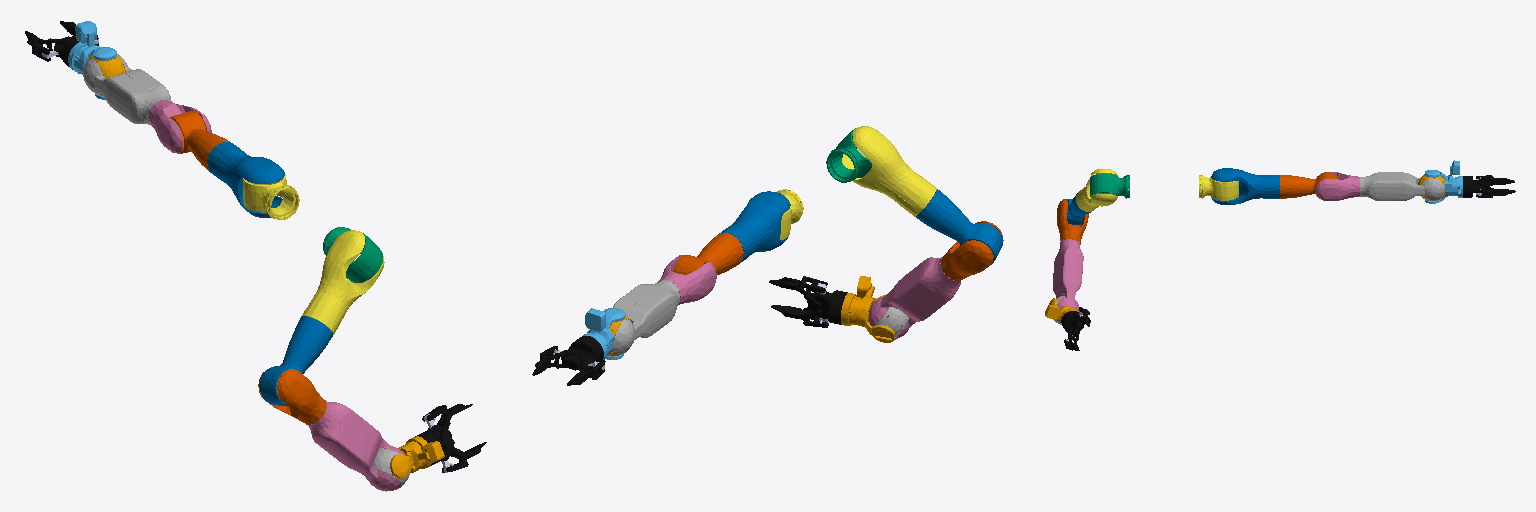
--- Facts derived from the render (not from the file) ---
The picture shows the robot from 3 angles, left to right: view 1: azimuth 30°, elevation 25°; view 2: azimuth 150°, elevation 25°; view 3: azimuth 270°, elevation 25°; orthographic projection.
Robot: galbot_one_charlie — 53 links, 52 joints (13 revolute, 39 fixed); root link base_link; default pose: every joint at zero.
Visible links, largest first — view 1: right_arm_link5, right_arm_link2, left_arm_link5, left_arm_link2, right_arm_link3, right_arm_link4, left_arm_link1, left_arm_link4, left_arm_link3, right_arm_link7, left_arm_link7, right_arm_link1; view 2: right_arm_link2, right_arm_link5, left_arm_link5, left_arm_link2, right_arm_link3, left_arm_link3, right_arm_link4, right_arm_link7, left_arm_link4, right_arm_link1, left_arm_link7, robotiq_arg2f_base_link (+2 smaller); view 3: left_arm_link5, right_arm_link5, left_arm_link2, left_arm_link4, left_arm_link3, right_arm_link1, left_arm_link1, right_arm_link2, right_arm_link4, left_arm_link7.
Link boxes in pixels (x1,y1,x2,y2): right_arm_link5: (306, 400, 405, 491); right_arm_link2: (301, 230, 384, 334); left_arm_link5: (83, 54, 171, 125); left_arm_link2: (207, 142, 284, 217); right_arm_link3: (260, 316, 332, 405); right_arm_link4: (258, 369, 326, 424); left_arm_link1: (243, 174, 299, 219); left_arm_link4: (148, 100, 211, 153); left_arm_link3: (170, 111, 230, 171); right_arm_link7: (366, 436, 444, 479); left_arm_link7: (68, 21, 116, 99); right_arm_link1: (323, 227, 382, 282); right_arm_link2: (842, 126, 936, 216); right_arm_link5: (868, 257, 960, 339); left_arm_link5: (613, 280, 679, 355); left_arm_link2: (719, 191, 790, 263); right_arm_link3: (916, 189, 1002, 262); left_arm_link3: (673, 233, 743, 274); right_arm_link4: (941, 221, 1003, 280); right_arm_link7: (841, 276, 894, 342); left_arm_link4: (658, 255, 716, 305); right_arm_link1: (826, 128, 871, 182); left_arm_link7: (583, 308, 625, 359); robotiq_arg2f_base_link: (561, 336, 603, 370); left_arm_link5: (1360, 172, 1444, 200); right_arm_link5: (1053, 239, 1083, 311); left_arm_link2: (1211, 168, 1279, 204); left_arm_link4: (1315, 172, 1359, 200); left_arm_link3: (1280, 172, 1338, 198); right_arm_link1: (1090, 174, 1129, 198); left_arm_link1: (1199, 175, 1238, 200); right_arm_link2: (1076, 169, 1117, 211); right_arm_link4: (1057, 199, 1088, 243); left_arm_link7: (1425, 160, 1462, 203).
Bounding box of the posed robot: 0.5846 × 1.61 × 0.6143 m (x, y, z).
32 mesh visuals loaded from 19 distinct referenced files (12 OBJ); not drawn: 7 (reference not matched to a file when rendering).

robot.urdf — galbot_one_charlie:
<?xml version='1.0' encoding='UTF-8'?>
<robot name="galbot_one_charlie">
    <link name="base_link">
        <inertial>
            <origin xyz="0.0 0.0 0.0" rpy="0.0 -0.0 0.0"/>
            <mass value="1.0"/>
            <inertia ixx="1.0" ixy="0.0" ixz="0.0" iyy="1.0" iyz="0.0" izz="1.0"/>
        </inertial>
    </link>
    <link name="omni_chassis_base_link">
        <inertial>
            <origin xyz="0.0031 0.00022 0.09001" rpy="0.0 0.0 0.0"/>
            <mass value="25.85"/>
            <inertia ixx="1.12288" ixy="0.00076" ixz="0.02446" iyy="1.15522" iyz="0.00086" izz="1.58321"/>
        </inertial>
        <visual>
            <geometry>
                <mesh filename="meshes/chassis/omni_chassis_base_link.stl"/>
            </geometry>
            <origin xyz="0.0 0.0 0.0" rpy="0.0 0.0 0.0"/>
        </visual>
        <collision>
            <geometry>
                <sphere radius="0.124"/>
            </geometry>
            <origin xyz="0.0 -0.2 0.11" rpy="0.0 -0.0 0.0"/>
        </collision>
        <collision>
            <geometry>
                <sphere radius="0.124"/>
            </geometry>
            <origin xyz="0.0 0.2 0.11" rpy="0.0 -0.0 0.0"/>
        </collision>
        <collision>
            <geometry>
                <sphere radius="0.1"/>
            </geometry>
            <origin xyz="0.23 0.0 0.19" rpy="0.0 -0.0 0.0"/>
        </collision>
        <collision>
            <geometry>
                <sphere radius="0.1"/>
            </geometry>
            <origin xyz="0.23 0.0 0.08" rpy="0.0 -0.0 0.0"/>
        </collision>
        <collision>
            <geometry>
                <sphere radius="0.124"/>
            </geometry>
            <origin xyz="-0.219 0.0 0.11" rpy="0.0 -0.0 0.0"/>
        </collision>
        <collision>
            <geometry>
                <sphere radius="0.124"/>
            </geometry>
            <origin xyz="-0.157 -0.157 0.11" rpy="0.0 -0.0 0.0"/>
        </collision>
        <collision>
            <geometry>
                <sphere radius="0.123"/>
            </geometry>
            <origin xyz="0.157 0.157 0.11" rpy="0.0 -0.0 0.0"/>
        </collision>
        <collision>
            <geometry>
                <sphere radius="0.123"/>
            </geometry>
            <origin xyz="-0.157 0.157 0.11" rpy="0.0 -0.0 0.0"/>
        </collision>
        <collision>
            <geometry>
                <sphere radius="0.123"/>
            </geometry>
            <origin xyz="0.157 -0.157 0.11" rpy="0.0 -0.0 0.0"/>
        </collision>
    </link>
    <link name="omni_chassis_leg_mount_link">
        <inertial>
            <origin xyz="0.0 0.0 0.0" rpy="0.0 0.0 0.0"/>
            <mass value="0.0"/>
            <inertia ixx="0.0" ixy="0.0" ixz="0.0" iyy="0.0" iyz="0.0" izz="0.0"/>
        </inertial>
    </link>
    <link name="leg_base_link">
        <inertial>
            <origin xyz="0.00138 -0.01502 -0.0536" rpy="0.0 0.0 0.0"/>
            <mass value="1.98"/>
            <inertia ixx="0.01545" ixy="0.00015" ixz="-0.00028" iyy="0.01172" iyz="-0.00071" izz="0.00904"/>
        </inertial>
    </link>
    <link name="leg_link1">
        <inertial>
            <origin xyz="0.23126 0.00187 -0.01166" rpy="0.0 0.0 0.0"/>
            <mass value="13.38"/>
            <inertia ixx="0.0554" ixy="0.00267" ixz="-0.03511" iyy="1.1704" iyz="-0.00012" izz="1.15967"/>
        </inertial>
        <visual>
            <geometry>
                <mesh filename="meshes/leg/leg_link1.stl"/>
            </geometry>
            <origin xyz="0.0 0.0 0.0" rpy="0.0 0.0 0.0"/>
        </visual>
        <collision>
            <geometry>
                <sphere radius="0.1"/>
            </geometry>
            <origin xyz="0.0 0.0 0.0" rpy="0.0 -0.0 0.0"/>
        </collision>
        <collision>
            <geometry>
                <sphere radius="0.1"/>
            </geometry>
            <origin xyz="0.1 -0.03 0.0" rpy="0.0 -0.0 0.0"/>
        </collision>
        <collision>
            <geometry>
                <sphere radius="0.1"/>
            </geometry>
            <origin xyz="0.22 -0.03 0.0" rpy="0.0 -0.0 0.0"/>
        </collision>
        <collision>
            <geometry>
                <sphere radius="0.1"/>
            </geometry>
            <origin xyz="0.33 -0.03 0.0" rpy="0.0 -0.0 0.0"/>
        </collision>
    </link>
    <link name="leg_link2">
        <inertial>
            <origin xyz="0.1834 1e-05 0.01143" rpy="0.0 0.0 0.0"/>
            <mass value="4.72"/>
            <inertia ixx="0.04727" ixy="1e-05" ixz="0.01147" iyy="0.29026" iyz="1e-05" izz="0.25782"/>
        </inertial>
        <visual>
            <geometry>
                <mesh filename="meshes/leg/leg_link2.stl"/>
            </geometry>
            <origin xyz="0.0 0.0 0.0" rpy="0.0 0.0 0.0"/>
        </visual>
        <collision>
            <geometry>
                <sphere radius="0.14"/>
            </geometry>
            <origin xyz="0.0 0.0 0.0" rpy="0.0 -0.0 0.0"/>
        </collision>
        <collision>
            <geometry>
                <sphere radius="0.14"/>
            </geometry>
            <origin xyz="0.13 0.0 0.0" rpy="0.0 -0.0 0.0"/>
        </collision>
        <collision>
            <geometry>
                <sphere radius="0.14"/>
            </geometry>
            <origin xyz="0.26 0.0 0.0" rpy="0.0 -0.0 0.0"/>
        </collision>
        <collision>
            <geometry>
                <sphere radius="0.14"/>
            </geometry>
            <origin xyz="0.4 0.0 0.0" rpy="0.0 -0.0 0.0"/>
        </collision>
    </link>
    <link name="leg_link3">
        <inertial>
            <origin xyz="4e-05 0.03287 -0.00556" rpy="0.0 0.0 0.0"/>
            <mass value="6.04"/>
            <inertia ixx="0.02981" ixy="1e-05" ixz="-0.0" iyy="0.02294" iyz="-0.00079" izz="0.03182"/>
        </inertial>
        <visual>
            <geometry>
                <mesh filename="meshes/leg/leg_link3.stl"/>
            </geometry>
            <origin xyz="0.0 0.0 0.0" rpy="0.0 0.0 0.0"/>
        </visual>
    </link>
    <link name="leg_link4">
        <inertial>
            <origin xyz="6e-05 -3e-05 0.14494" rpy="0.0 0.0 0.0"/>
            <mass value="0.55"/>
            <inertia ixx="0.01267" ixy="0.0" ixz="1e-05" iyy="0.0127" iyz="-0.0" izz="0.00125"/>
        </inertial>
        <visual>
            <geometry>
                <mesh filename="meshes/leg/leg_link4.stl"/>
            </geometry>
            <origin xyz="0.0 0.0 0.0" rpy="0.0 0.0 0.0"/>
        </visual>
    </link>
    <link name="leg_end_effector_mount_link">
        <inertial>
            <origin xyz="0.0 0.0 0.0" rpy="0.0 0.0 0.0"/>
            <mass value="0.0"/>
            <inertia ixx="0.0" ixy="0.0" ixz="0.0" iyy="0.0" iyz="0.0" izz="0.0"/>
        </inertial>
    </link>
    <link name="torso_base_link">
        <inertial>
            <origin xyz="4e-05 0.00011 0.32719" rpy="0.0 0.0 0.0"/>
            <mass value="6.68"/>
            <inertia ixx="0.87119" ixy="9e-05" ixz="-0.00496" iyy="0.85457" iyz="0.00295" izz="0.0656"/>
        </inertial>
        <visual>
            <geometry>
                <mesh filename="meshes/torso/torso_base_link.stl"/>
            </geometry>
            <origin xyz="0.0 0.0 0.0" rpy="0.0 0.0 0.0"/>
        </visual>
        <collision>
            <geometry>
                <sphere radius="0.22"/>
            </geometry>
            <origin xyz="0.0 0.0 0.34" rpy="0.0 -0.0 0.0"/>
        </collision>
        <collision>
            <geometry>
                <sphere radius="0.14"/>
            </geometry>
            <origin xyz="0.0 0.0 0.18" rpy="0.0 -0.0 0.0"/>
        </collision>
        <collision>
            <geometry>
                <sphere radius="0.14"/>
            </geometry>
            <origin xyz="0.0 -0.06 0.38" rpy="0.0 -0.0 0.0"/>
        </collision>
        <collision>
            <geometry>
                <sphere radius="0.14"/>
            </geometry>
            <origin xyz="0.0 0.06 0.38" rpy="0.0 -0.0 0.0"/>
        </collision>
    </link>
    <link name="torso_head_mount_link">
        <inertial>
            <origin xyz="0.0 0.0 0.0" rpy="0.0 0.0 0.0"/>
            <mass value="0.0"/>
            <inertia ixx="0.0" ixy="0.0" ixz="0.0" iyy="0.0" iyz="0.0" izz="0.0"/>
        </inertial>
    </link>
    <link name="torso_right_arm_mount_link">
        <inertial>
            <origin xyz="0.0 0.0 0.0" rpy="0.0 0.0 0.0"/>
            <mass value="0.0"/>
            <inertia ixx="0.0" ixy="0.0" ixz="0.0" iyy="0.0" iyz="0.0" izz="0.0"/>
        </inertial>
    </link>
    <link name="torso_left_arm_mount_link">
        <inertial>
            <origin xyz="0.0 0.0 0.0" rpy="0.0 0.0 0.0"/>
            <mass value="0.0"/>
            <inertia ixx="0.0" ixy="0.0" ixz="0.0" iyy="0.0" iyz="0.0" izz="0.0"/>
        </inertial>
    </link>
    <link name="head_base_link">
        <inertial>
            <origin xyz="0.0 0.0 0.0" rpy="0.0 0.0 0.0"/>
            <mass value="0.0"/>
            <inertia ixx="0.018397" ixy="-6.5897e-07" ixz="0.00030036" iyy="0.013058" iyz="0.00016843" izz="0.0082332"/>
        </inertial>
    </link>
    <link name="head_link1">
        <inertial>
            <origin xyz="0.0 4e-05 -0.04238" rpy="0.0 0.0 0.0"/>
            <mass value="0.41"/>
            <inertia ixx="0.0011" ixy="-0.0" ixz="0.0" iyy="0.00113" iyz="8e-05" izz="0.00014"/>
        </inertial>
    </link>
    <link name="head_link2">
        <inertial>
            <origin xyz="0.032 -0.03753 0.00162" rpy="0.0 0.0 0.0"/>
            <mass value="0.75"/>
            <inertia ixx="0.0038" ixy="-0.0007" ixz="0.0" iyy="0.00367" iyz="-0.0" izz="0.00538"/>
        </inertial>
        <visual>
            <geometry>
                <mesh filename="meshes/head/head_link2.stl"/>
            </geometry>
            <origin xyz="0.0 0.0 0.0" rpy="0.0 0.0 0.0"/>
        </visual>
        <collision>
            <geometry>
                <sphere radius="0.15"/>
            </geometry>
            <origin xyz="0.0 0.0 0.0" rpy="0.0 -0.0 0.0"/>
        </collision>
    </link>
    <link name="head_end_effector_mount_link">
        <inertial>
            <origin xyz="0.0 0.0 0.0" rpy="0.0 0.0 0.0"/>
            <mass value="0.0"/>
            <inertia ixx="0.0" ixy="0.0" ixz="0.0" iyy="0.0" iyz="0.0" izz="0.0"/>
        </inertial>
    </link>

    <!--  Right Arm Links  -->
    <link name="right_arm_base_link">
        <inertial>
            <origin xyz="0.00037 6e-05 -0.11407" rpy="0.0 0.0 0.0"/>
            <mass value="0.9"/>
            <inertia ixx="0.01248" ixy="0.0" ixz="3e-05" iyy="0.01247" iyz="3e-05" izz="0.00056"/>
        </inertial>
    </link>
    <link name="right_arm_link1">
        <inertial>
            <origin xyz="0.0 0.0065 -0.01459" rpy="0.0 0.0 0.0"/>
            <mass value="1.48"/>
            <inertia ixx="0.00378" ixy="0.0" ixz="0.0" iyy="0.0046" iyz="8e-05" izz="0.00217"/>
        </inertial>
        <visual>
            <geometry>
                <mesh filename="meshes/arm/visual/left_arm_link1.obj"/>
            </geometry>
            <origin xyz="0.0 0.0 0.0" rpy="0.0 0.0 0.0"/>
        </visual>
        <collision>
            <geometry>
                <mesh filename="meshes/arm/collision/left_arm_link1.stl"/>
            </geometry>
            <origin xyz="0.0 0.0 0.0" rpy="0.0 0.0 0.0"/>
        </collision>
    </link>
    <link name="right_arm_link2">
        <inertial>
            <origin xyz="-0.0008 -0.09873 0.00815" rpy="0.0 0.0 0.0"/>
            <mass value="1.33"/>
            <inertia ixx="0.01827" ixy="3e-05" ixz="1e-05" iyy="0.00232" iyz="0.0008" izz="0.01769"/>
        </inertial>
        <visual>
            <geometry>
                <mesh filename="meshes/arm/visual/left_arm_link2.obj"/>
            </geometry>
            <origin xyz="0.0 0.0 0.0" rpy="3.14159 0.0 0.0"/>
        </visual>
        <collision>
            <geometry>
                <mesh filename="meshes/arm/collision/left_arm_link2.stl"/>
            </geometry>
            <origin xyz="0.0 0.0 0.0" rpy="3.14159 0.0 0.0"/>
        </collision>
    </link>
    <link name="right_arm_link3">
        <inertial>
            <origin xyz="-0.00019 -0.0033 -0.04824" rpy="0.0 0.0 0.0"/>
            <mass value="1.25"/>
            <inertia ixx="0.00955" ixy="0.0" ixz="1e-05" iyy="0.00983" iyz="7e-05" izz="0.00151"/>
        </inertial>
        <visual>
            <geometry>
                <mesh filename="meshes/arm/visual/left_arm_link3.obj"/>
            </geometry>
            <origin xyz="0.0 0.0 0.0" rpy="0.0 0.0 0.0"/>
        </visual>
        <collision>
            <geometry>
                <mesh filename="meshes/arm/collision/left_arm_link3.stl"/>
            </geometry>
            <origin xyz="0.0 0.0 0.0" rpy="0.0 0.0 0.0"/>
        </collision>
    </link>
    <link name="right_arm_link4">
        <inertial>
            <origin xyz="0.0 -0.06457 0.00899" rpy="0.0 0.0 0.0"/>
            <mass value="0.8"/>
            <inertia ixx="0.00529" ixy="0.0" ixz="0.0" iyy="0.0012" iyz="0.0003" izz="0.00488"/>
        </inertial>
        <visual>
            <geometry>
                <mesh filename="meshes/arm/visual/left_arm_link4.obj"/>
            </geometry>
            <origin xyz="0.0 0.0 0.0" rpy="3.14159 0.0 0.0"/>
        </visual>
        <collision>
            <geometry>
                <mesh filename="meshes/arm/collision/left_arm_link4.stl"/>
            </geometry>
            <origin xyz="0.0 0.0 0.0" rpy="3.14159 0.0 0.0"/>
        </collision>
    </link>
    <link name="right_arm_link5">
        <inertial>
            <origin xyz="0.00201 -0.00042 -0.14589" rpy="0.0 0.0 0.0"/>
            <mass value="1.22"/>
            <inertia ixx="0.03428" ixy="1e-05" ixz="0.00032" iyy="0.03366" iyz="5e-05" izz="0.00222"/>
        </inertial>
        <visual>
            <geometry>
                <mesh filename="meshes/arm/visual/left_arm_link5.obj"/>
            </geometry>
            <origin xyz="0.0 0.0 0.0" rpy="0.0 0.0 0.0"/>
        </visual>
        <collision>
            <geometry>
                <mesh filename="meshes/arm/collision/left_arm_link5.stl"/>
            </geometry>
            <origin xyz="0.0 0.0 0.0" rpy="0.0 0.0 0.0"/>
        </collision>
    </link>
    <link name="right_arm_link6">
        <inertial>
            <origin xyz="0.0 0.01031 0.0" rpy="0.0 0.0 0.0"/>
            <mass value="0.43"/>
            <inertia ixx="0.00051" ixy="0.0" ixz="0.0" iyy="0.0007" iyz="0.0" izz="0.00091"/>
        </inertial>
        <visual>
            <geometry>
                <mesh filename="meshes/arm/visual/left_arm_link6.obj"/>
            </geometry>
            <origin xyz="0.0 0.0 0.0" rpy="0.0 0.0 0.0"/>
        </visual>
        <collision>
            <geometry>
                <mesh filename="meshes/arm/collision/left_arm_link6.stl"/>
            </geometry>
            <origin xyz="0.0 0.0 0.0" rpy="0.0 0.0 0.0"/>
        </collision>
    </link>
    <link name="right_arm_link7">
        <inertial>
            <origin xyz="-0.03291 0.00799 -0.00131" rpy="0.0 0.0 0.0"/>
            <mass value="0.6"/>
            <inertia ixx="0.00124" ixy="0.0003" ixz="0.00013" iyy="0.00198" iyz="7e-05" izz="0.00164"/>
        </inertial>
        <visual>
            <geometry>
                <mesh filename="meshes/arm/visual/left_arm_link7_simple.obj"/>
            </geometry>
            <origin xyz="0.0 0.0 0.0" rpy="0.0 0.0 0.0"/>
        </visual>
        <collision>
            <geometry>
                <mesh filename="meshes/arm/collision/left_arm_link7_simple.stl"/>
            </geometry>
            <origin xyz="0.0 0.0 0.0" rpy="0.0 0.0 0.0"/>
        </collision>
    </link>

    <!--  Right Tool Link  -->
    <link name="right_robotiq_arg2f_base_link">
        <inertial>
            <origin rpy="0 0 0" xyz="8.625E-08 -4.6583E-06 0.03145"/>
            <mass value="0.22652"/>
            <inertia ixx="0.00020005" ixy="-4.2442E-10" ixz="-2.9069E-10" iyy="0.00017832" iyz="-3.4402E-08"
                     izz="0.00013478"/>
        </inertial>
        <visual>
            <origin rpy="0 0 0" xyz="0 0 0"/>
            <geometry>
                <mesh filename="meshes/gripper/visual/robotiq_arg2f_85_base_link.obj"/>
            </geometry>
            <material name="">
                <color rgba="0.1 0.1 0.1 1"/>
            </material>
        </visual>
        <collision>
            <origin rpy="0 0 0" xyz="0 0 0"/>
            <geometry>
                <mesh filename="meshes/gripper/collision/robotiq_arg2f_base_link.stl"/>
            </geometry>
        </collision>
    </link>
    <link name="right_robotiq_left_outer_knuckle">
        <inertial>
            <origin xyz="-0.000200000000003065 0.0199435877845359 0.0292245259211331" rpy="0 0 0"/>
            <mass value="0.00853198276973456"/>
            <inertia ixx="2.89328108496468E-06" ixy="-1.57935047237397E-19" ixz="-1.93980378593255E-19"
                     iyy="1.86719750325683E-06" iyz="-1.21858577871576E-06" izz="1.21905238907251E-06"/>
        </inertial>
        <visual>
            <origin rpy="0 0 0" xyz="0 0 0"/>
            <geometry>
                <mesh filename="meshes/gripper/visual/robotiq_arg2f_85_outer_knuckle.obj"/>
            </geometry>
            <material name="">
                <color rgba="0.792156862745098 0.819607843137255 0.933333333333333 1"/>
            </material>
        </visual>
        <collision>
            <origin rpy="0 0 0" xyz="0 0 0"/>
            <geometry>
                <mesh filename="meshes/gripper/collision/robotiq_arg2f_85_outer_knuckle.obj"/>
            </geometry>
        </collision>
    </link>
    <link name="right_robotiq_left_outer_finger">
        <inertial>
            <origin xyz="0.00030115855001899 0.0373907951953854 -0.0208027427000385" rpy="0 0 0"/>
            <mass value="0.022614240507152"/>
            <inertia ixx="1.52518312458174E-05" ixy="9.76583423954399E-10" ixz="-5.43838577022588E-10"
                     iyy="6.17694243867776E-06" iyz="6.78636130740228E-06" izz="1.16494917907219E-05"/>
        </inertial>
        <visual>
            <origin rpy="0 0 0" xyz="0 0 0"/>
            <geometry>
                <mesh filename="meshes/gripper/visual/robotiq_arg2f_85_outer_finger.obj"/>
            </geometry>
            <material name="">
                <color rgba="0.1 0.1 0.1 1"/>
            </material>
        </visual>
        <collision>
            <origin rpy="0 0 0" xyz="0 0 0"/>
            <geometry>
                <mesh filename="meshes/gripper/collision/robotiq_arg2f_85_outer_finger.obj"/>
            </geometry>
        </collision>
    </link>
    <link name="right_robotiq_left_inner_finger">
        <inertial>
            <origin xyz="0.000299999999999317 0.0160078233491243 -0.0136945669206257" rpy="0 0 0"/>
            <mass value="0.0104003125914103"/>
            <inertia ixx="2.71909453810972E-06" ixy="1.35402465472579E-21" ixz="-7.1817349065269E-22"
                     iyy="7.69100314106116E-07" iyz="6.74715432769696E-07" izz="2.30315190420171E-06"/>
        </inertial>
        <visual>
            <origin rpy="0 0 0" xyz="0 0 0"/>
            <geometry>
                <mesh filename="meshes/gripper/visual/robotiq_arg2f_85_inner_finger_GT.obj"/>
            </geometry>
            <material name="">
                <color rgba="0.1 0.1 0.1 1"/>
            </material>
        </visual>
        <collision>
            <origin rpy="0 0 0" xyz="0 0 0"/>
            <geometry>
                <mesh filename="meshes/gripper/collision/robotiq_arg2f_85_inner_finger_GT_convex.stl"/>
            </geometry>
        </collision>
    </link>
    <link name="right_robotiq_left_inner_knuckle">
        <inertial>
            <origin xyz="0.000123011831763771 0.0507850843201817 0.00103968640075166" rpy="0 0 0"/>
            <mass value="0.0271177346495152"/>
            <inertia ixx="2.61910379223783E-05" ixy="-2.43616858946494E-07" ixz="-6.37789906117123E-09"
                     iyy="2.8270243746167E-06" iyz="-5.37200748039765E-07" izz="2.83695868220296E-05"/>
        </inertial>
        <visual>
            <origin rpy="0 0 0" xyz="0 0 0"/>
            <geometry>
                <mesh filename="meshes/gripper/visual/robotiq_arg2f_85_inner_knuckle.obj"/>
            </geometry>
            <material name="">
                <color rgba="0.1 0.1 0.1 1"/>
            </material>
        </visual>
        <collision>
            <origin rpy="0 0 0" xyz="0 0 0"/>
            <geometry>
                <mesh filename="meshes/gripper/collision/robotiq_arg2f_85_inner_knuckle.obj"/>
            </geometry>
        </collision>
    </link>
    <link name="right_robotiq_right_outer_knuckle">
        <inertial>
            <origin xyz="-0.000200000000003065 0.0199435877845359 0.0292245259211331" rpy="0 0 0"/>
            <mass value="0.00853198276973456"/>
            <inertia ixx="2.89328108496468E-06" ixy="-1.57935047237397E-19" ixz="-1.93980378593255E-19"
                     iyy="1.86719750325683E-06" iyz="-1.21858577871576E-06" izz="1.21905238907251E-06"/>
        </inertial>
        <visual>
            <origin rpy="0 0 0" xyz="0 0 0"/>
            <geometry>
                <mesh filename="meshes/gripper/visual/robotiq_arg2f_85_outer_knuckle.obj"/>
            </geometry>
            <material name="">
                <color rgba="0.792156862745098 0.819607843137255 0.933333333333333 1"/>
            </material>
        </visual>
        <collision>
            <origin rpy="0 0 0" xyz="0 0 0"/>
            <geometry>
                <mesh filename="meshes/gripper/collision/robotiq_arg2f_85_outer_knuckle.obj"/>
            </geometry>
        </collision>
    </link>
    <link name="right_robotiq_right_outer_finger">
        <inertial>
            <origin xyz="0.00030115855001899 0.0373907951953854 -0.0208027427000385" rpy="0 0 0"/>
            <mass value="0.022614240507152"/>
            <inertia ixx="1.52518312458174E-05" ixy="9.76583423954399E-10" ixz="-5.43838577022588E-10"
                     iyy="6.17694243867776E-06" iyz="6.78636130740228E-06" izz="1.16494917907219E-05"/>
        </inertial>
        <visual>
            <origin rpy="0 0 0" xyz="0 0 0"/>
            <geometry>
                <mesh filename="meshes/gripper/visual/robotiq_arg2f_85_outer_finger.obj"/>
            </geometry>
            <material name="">
                <color rgba="0.1 0.1 0.1 1"/>
            </material>
        </visual>
        <collision>
            <origin rpy="0 0 0" xyz="0 0 0"/>
            <geometry>
                <mesh filename="meshes/gripper/collision/robotiq_arg2f_85_outer_finger.obj"/>
            </geometry>
        </collision>
    </link>
    <link name="right_robotiq_right_inner_finger">
        <inertial>
            <origin xyz="0.000299999999999317 0.0160078233491243 -0.0136945669206257" rpy="0 0 0"/>
            <mass value="0.0104003125914103"/>
            <inertia ixx="2.71909453810972E-06" ixy="1.35402465472579E-21" ixz="-7.1817349065269E-22"
                     iyy="7.69100314106116E-07" iyz="6.74715432769696E-07" izz="2.30315190420171E-06"/>
        </inertial>
        <visual>
            <origin rpy="0 0 0" xyz="0 0 0"/>
            <geometry>
                <mesh filename="meshes/gripper/visual/robotiq_arg2f_85_inner_finger_GT.obj"/>
            </geometry>
            <material name="">
                <color rgba="0.1 0.1 0.1 1"/>
            </material>
        </visual>
        <collision>
            <origin rpy="0 0 0" xyz="0 0 0"/>
            <geometry>
                <mesh filename="meshes/gripper/collision/robotiq_arg2f_85_inner_finger_GT_convex.stl"/>
            </geometry>
        </collision>
    </link>
    <link name="right_robotiq_right_inner_knuckle">
        <inertial>
            <origin xyz="0.000123011831763771 0.0507850843201817 0.00103968640075166" rpy="0 0 0"/>
            <mass value="0.0271177346495152"/>
            <inertia ixx="2.61910379223783E-05" ixy="-2.43616858946494E-07" ixz="-6.37789906117123E-09"
                     iyy="2.8270243746167E-06" iyz="-5.37200748039765E-07" izz="2.83695868220296E-05"/>
        </inertial>
        <visual>
            <origin rpy="0 0 0" xyz="0 0 0"/>
            <geometry>
                <mesh filename="meshes/gripper/visual/robotiq_arg2f_85_inner_knuckle.obj"/>
            </geometry>
            <material name="">
                <color rgba="0.1 0.1 0.1 1"/>
            </material>
        </visual>
        <collision>
            <origin rpy="0 0 0" xyz="0 0 0"/>
            <geometry>
                <mesh filename="meshes/gripper/collision/robotiq_arg2f_85_inner_knuckle.obj"/>
            </geometry>
        </collision>
    </link>

    <!--  Left Arm Links  -->
    <link name="left_arm_base_link">
        <inertial>
            <origin xyz="-0.00037 -6e-05 -0.11407" rpy="0.0 0.0 0.0"/>
            <mass value="0.9"/>
            <inertia ixx="0.01248" ixy="0.0" ixz="3e-05" iyy="0.01247" iyz="3e-05" izz="0.00056"/>
        </inertial>
    </link>
    <link name="left_arm_link1">
        <inertial>
            <origin xyz="0.0 0.0065 -0.01459" rpy="0.0 0.0 0.0"/>
            <mass value="1.48"/>
            <inertia ixx="0.00378" ixy="0.0" ixz="0.0" iyy="0.0046" iyz="0.0002" izz="0.00217"/>
        </inertial>
        <visual>
            <geometry>
                <mesh filename="meshes/arm/visual/left_arm_link1.obj"/>
            </geometry>
            <origin xyz="0.0 0.0 0.0" rpy="0.0 0.0 0.0"/>
        </visual>
        <collision>
            <geometry>
                <mesh filename="meshes/arm/collision/left_arm_link1.stl"/>
            </geometry>
            <origin xyz="0.0 0.0 0.0" rpy="0.0 0.0 0.0"/>
        </collision>
    </link>
    <link name="left_arm_link2">
        <inertial>
            <origin xyz="-0.0008 0.09873 0.00815" rpy="0.0 0.0 0.0"/>
            <mass value="1.33"/>
            <inertia ixx="0.01827" ixy="3e-05" ixz="3e-05" iyy="0.00232" iyz="0.00134" izz="0.01769"/>
        </inertial>
        <visual>
            <geometry>
                <mesh filename="meshes/arm/visual/left_arm_link2.obj"/>
            </geometry>
            <origin xyz="0.0 0.0 0.0" rpy="0.0 0.0 0.0"/>
        </visual>
        <collision>
            <geometry>
                <mesh filename="meshes/arm/collision/left_arm_link2.stl"/>
            </geometry>
            <origin xyz="0.0 0.0 0.0" rpy="0.0 0.0 0.0"/>
        </collision>
    </link>
    <link name="left_arm_link3">
        <inertial>
            <origin xyz="0.00019 0.0033 -0.04824" rpy="0.0 0.0 0.0"/>
            <mass value="1.25"/>
            <inertia ixx="0.00955" ixy="0.0" ixz="1e-05" iyy="0.00983" iyz="7e-05" izz="0.00151"/>
        </inertial>
        <visual>
            <geometry>
                <mesh filename="meshes/arm/visual/left_arm_link3.obj"/>
            </geometry>
            <origin xyz="0.0 0.0 0.0" rpy="0.0 0.0 0.0"/>
        </visual>
        <collision>
            <geometry>
                <mesh filename="meshes/arm/collision/left_arm_link3.stl"/>
            </geometry>
            <origin xyz="0.0 0.0 0.0" rpy="0.0 0.0 0.0"/>
        </collision>
    </link>
    <link name="left_arm_link4">
        <inertial>
            <origin xyz="0.0 0.06457 0.00899" rpy="0.0 0.0 0.0"/>
            <mass value="0.8"/>
            <inertia ixx="0.00529" ixy="0.0" ixz="0.0" iyy="0.0012" iyz="0.0003" izz="0.00488"/>
        </inertial>
        <visual>
            <geometry>
                <mesh filename="meshes/arm/visual/left_arm_link4.obj"/>
            </geometry>
            <origin xyz="0.0 0.0 0.0" rpy="0.0 0.0 0.0"/>
        </visual>
        <collision>
            <geometry>
                <mesh filename="meshes/arm/collision/left_arm_link4.stl"/>
            </geometry>
            <origin xyz="0.0 0.0 0.0" rpy="0.0 0.0 0.0"/>
        </collision>
    </link>
    <link name="left_arm_link5">
        <inertial>
            <origin xyz="-0.00201 0.00042 -0.14589" rpy="0.0 0.0 0.0"/>
            <mass value="1.22"/>
            <inertia ixx="0.03428" ixy="1e-05" ixz="0.00039" iyy="0.03366" iyz="0.0001" izz="0.00222"/>
        </inertial>
        <visual>
            <geometry>
                <mesh filename="meshes/arm/visual/left_arm_link5.obj"/>
            </geometry>
            <origin xyz="0.0 0.0 0.0" rpy="0.0 0.0 0.0"/>
        </visual>
        <collision>
            <geometry>
                <mesh filename="meshes/arm/collision/left_arm_link5.stl"/>
            </geometry>
            <origin xyz="0.0 0.0 0.0" rpy="0.0 0.0 0.0"/>
        </collision>
    </link>
    <link name="left_arm_link6">
        <inertial>
            <origin xyz="0.0 -0.01031 0.0" rpy="0.0 0.0 0.0"/>
            <mass value="0.43"/>
            <inertia ixx="0.00051" ixy="0.0" ixz="0.0" iyy="0.0007" iyz="0.0" izz="0.00091"/>
        </inertial>
        <visual>
            <geometry>
                <mesh filename="meshes/arm/visual/left_arm_link6.obj"/>
            </geometry>
            <origin xyz="0.0 0.0 0.0" rpy="0.0 0.0 0.0"/>
        </visual>
        <collision>
            <geometry>
                <mesh filename="meshes/arm/collision/left_arm_link6.stl"/>
            </geometry>
            <origin xyz="0.0 0.0 0.0" rpy="0.0 0.0 0.0"/>
        </collision>
    </link>
    <link name="left_arm_link7">
        <inertial>
            <origin xyz="-0.03291 0.00799 -0.00131" rpy="0.0 0.0 0.0"/>
            <mass value="0.6"/>
            <inertia ixx="0.00124" ixy="0.0" ixz="0.00012" iyy="0.00197" iyz="4e-05" izz="0.00165"/>
        </inertial>
        <visual>
            <geometry>
                <mesh filename="meshes/arm/visual/left_arm_link7_simple.obj"/>
            </geometry>
            <origin xyz="0.0 0.0 0.0" rpy="0.0 0.0 0.0"/>
        </visual>
        <collision>
            <geometry>
                <mesh filename="meshes/arm/collision/left_arm_link7_simple.stl"/>
            </geometry>
            <origin xyz="0.0 0.0 0.0" rpy="0.0 0.0 0.0"/>
        </collision>
    </link>
    <link name="left_arm_end_effector_mount_link">
        <inertial>
            <origin xyz="0.0 0.0 0.0" rpy="0.0 0.0 0.0"/>
            <mass value="0.0"/>
            <inertia ixx="0.0" ixy="0.0" ixz="0.0" iyy="0.0" iyz="0.0" izz="0.0"/>
        </inertial>
    </link>
    <link name="left_gripper_tcp_link">
        <!--        <visual>-->
        <!--            <geometry>-->
        <!--                <mesh filename="meshes/debug/axis.dae"/>-->
        <!--            </geometry>-->
        <!--            <origin xyz="0.0 0.0 0.0" rpy="0.0 0.0 0.0"/>-->
        <!--        </visual>-->
    </link>

    <!--  Tool Link  -->
    <link name="robotiq_arg2f_base_link">
        <inertial>
            <origin rpy="0 0 0" xyz="8.625E-08 -4.6583E-06 0.03145"/>
            <mass value="0.22652"/>
            <inertia ixx="0.00020005" ixy="-4.2442E-10" ixz="-2.9069E-10" iyy="0.00017832" iyz="-3.4402E-08"
                     izz="0.00013478"/>
        </inertial>
        <visual>
            <origin rpy="0 0 0" xyz="0 0 0"/>
            <geometry>
                <mesh filename="meshes/gripper/visual/robotiq_arg2f_85_base_link.obj"/>
            </geometry>
            <material name="">
                <color rgba="0.1 0.1 0.1 1"/>
            </material>
        </visual>
        <collision>
            <origin rpy="0 0 0" xyz="0 0 0"/>
            <geometry>
                <mesh filename="meshes/gripper/collision/robotiq_arg2f_base_link.stl"/>
            </geometry>
        </collision>
    </link>
    <link name="left_outer_knuckle">
        <inertial>
            <origin xyz="-0.000200000000003065 0.0199435877845359 0.0292245259211331" rpy="0 0 0"/>
            <mass value="0.00853198276973456"/>
            <inertia ixx="2.89328108496468E-06" ixy="-1.57935047237397E-19" ixz="-1.93980378593255E-19"
                     iyy="1.86719750325683E-06" iyz="-1.21858577871576E-06" izz="1.21905238907251E-06"/>
        </inertial>
        <visual>
            <origin rpy="0 0 0" xyz="0 0 0"/>
            <geometry>
                <mesh filename="meshes/gripper/visual/robotiq_arg2f_85_outer_knuckle.obj"/>
            </geometry>
            <material name="">
                <color rgba="0.792156862745098 0.819607843137255 0.933333333333333 1"/>
            </material>
        </visual>
        <collision>
            <origin rpy="0 0 0" xyz="0 0 0"/>
            <geometry>
                <mesh filename="meshes/gripper/collision/robotiq_arg2f_85_outer_knuckle.obj"/>
            </geometry>
        </collision>
    </link>
    <link name="left_outer_finger">
        <inertial>
            <origin xyz="0.00030115855001899 0.0373907951953854 -0.0208027427000385" rpy="0 0 0"/>
            <mass value="0.022614240507152"/>
            <inertia ixx="1.52518312458174E-05" ixy="9.76583423954399E-10" ixz="-5.43838577022588E-10"
                     iyy="6.17694243867776E-06" iyz="6.78636130740228E-06" izz="1.16494917907219E-05"/>
        </inertial>
        <visual>
            <origin rpy="0 0 0" xyz="0 0 0"/>
            <geometry>
                <mesh filename="meshes/gripper/visual/robotiq_arg2f_85_outer_finger.obj"/>
            </geometry>
            <material name="">
                <color rgba="0.1 0.1 0.1 1"/>
            </material>
        </visual>
        <collision>
            <origin rpy="0 0 0" xyz="0 0 0"/>
            <geometry>
                <mesh filename="meshes/gripper/collision/robotiq_arg2f_85_outer_finger.obj"/>
            </geometry>
        </collision>
    </link>
    <link name="left_inner_finger">
        <inertial>
            <origin xyz="0.000299999999999317 0.0160078233491243 -0.0136945669206257" rpy="0 0 0"/>
            <mass value="0.0104003125914103"/>
            <inertia ixx="2.71909453810972E-06" ixy="1.35402465472579E-21" ixz="-7.1817349065269E-22"
                     iyy="7.69100314106116E-07" iyz="6.74715432769696E-07" izz="2.30315190420171E-06"/>
        </inertial>
        <visual>
            <origin rpy="0 0 0" xyz="0 0 0"/>
            <geometry>
                <mesh filename="meshes/gripper/visual/robotiq_arg2f_85_inner_finger_GT.obj"/>
            </geometry>
            <material name="">
                <color rgba="0.1 0.1 0.1 1"/>
            </material>
        </visual>
        <collision>
            <origin rpy="0 0 0" xyz="0 0 0"/>
            <geometry>
                <mesh filename="meshes/gripper/collision/robotiq_arg2f_85_inner_finger_GT_convex.stl"/>
            </geometry>
        </collision>
    </link>
    <link name="left_inner_knuckle">
        <inertial>
            <origin xyz="0.000123011831763771 0.0507850843201817 0.00103968640075166" rpy="0 0 0"/>
            <mass value="0.0271177346495152"/>
            <inertia ixx="2.61910379223783E-05" ixy="-2.43616858946494E-07" ixz="-6.37789906117123E-09"
                     iyy="2.8270243746167E-06" iyz="-5.37200748039765E-07" izz="2.83695868220296E-05"/>
        </inertial>
        <visual>
            <origin rpy="0 0 0" xyz="0 0 0"/>
            <geometry>
                <mesh filename="meshes/gripper/visual/robotiq_arg2f_85_inner_knuckle.obj"/>
            </geometry>
            <material name="">
                <color rgba="0.1 0.1 0.1 1"/>
            </material>
        </visual>
        <collision>
            <origin rpy="0 0 0" xyz="0 0 0"/>
            <geometry>
                <mesh filename="meshes/gripper/collision/robotiq_arg2f_85_inner_knuckle.obj"/>
            </geometry>
        </collision>
    </link>
    <link name="right_outer_knuckle">
        <inertial>
            <origin xyz="-0.000200000000003065 0.0199435877845359 0.0292245259211331" rpy="0 0 0"/>
            <mass value="0.00853198276973456"/>
            <inertia ixx="2.89328108496468E-06" ixy="-1.57935047237397E-19" ixz="-1.93980378593255E-19"
                     iyy="1.86719750325683E-06" iyz="-1.21858577871576E-06" izz="1.21905238907251E-06"/>
        </inertial>
        <visual>
            <origin rpy="0 0 0" xyz="0 0 0"/>
            <geometry>
                <mesh filename="meshes/gripper/visual/robotiq_arg2f_85_outer_knuckle.obj"/>
            </geometry>
            <material name="">
                <color rgba="0.792156862745098 0.819607843137255 0.933333333333333 1"/>
            </material>
        </visual>
        <collision>
            <origin rpy="0 0 0" xyz="0 0 0"/>
            <geometry>
                <mesh filename="meshes/gripper/collision/robotiq_arg2f_85_outer_knuckle.obj"/>
            </geometry>
        </collision>
    </link>
    <link name="right_outer_finger">
        <inertial>
            <origin xyz="0.00030115855001899 0.0373907951953854 -0.0208027427000385" rpy="0 0 0"/>
            <mass value="0.022614240507152"/>
            <inertia ixx="1.52518312458174E-05" ixy="9.76583423954399E-10" ixz="-5.43838577022588E-10"
                     iyy="6.17694243867776E-06" iyz="6.78636130740228E-06" izz="1.16494917907219E-05"/>
        </inertial>
        <visual>
            <origin rpy="0 0 0" xyz="0 0 0"/>
            <geometry>
                <mesh filename="meshes/gripper/visual/robotiq_arg2f_85_outer_finger.obj"/>
            </geometry>
            <material name="">
                <color rgba="0.1 0.1 0.1 1"/>
            </material>
        </visual>
        <collision>
            <origin rpy="0 0 0" xyz="0 0 0"/>
            <geometry>
                <mesh filename="meshes/gripper/collision/robotiq_arg2f_85_outer_finger.obj"/>
            </geometry>
        </collision>
    </link>
    <link name="right_inner_finger">
        <inertial>
            <origin xyz="0.000299999999999317 0.0160078233491243 -0.0136945669206257" rpy="0 0 0"/>
            <mass value="0.0104003125914103"/>
            <inertia ixx="2.71909453810972E-06" ixy="1.35402465472579E-21" ixz="-7.1817349065269E-22"
                     iyy="7.69100314106116E-07" iyz="6.74715432769696E-07" izz="2.30315190420171E-06"/>
        </inertial>
        <visual>
            <origin rpy="0 0 0" xyz="0 0 0"/>
            <geometry>
                <mesh filename="meshes/gripper/visual/robotiq_arg2f_85_inner_finger_GT.obj"/>
            </geometry>
            <material name="">
                <color rgba="0.1 0.1 0.1 1"/>
            </material>
        </visual>
        <collision>
            <origin rpy="0 0 0" xyz="0 0 0"/>
            <geometry>
                <mesh filename="meshes/gripper/collision/robotiq_arg2f_85_inner_finger_GT_convex.stl"/>
            </geometry>
        </collision>
    </link>
    <link name="right_inner_knuckle">
        <inertial>
            <origin xyz="0.000123011831763771 0.0507850843201817 0.00103968640075166" rpy="0 0 0"/>
            <mass value="0.0271177346495152"/>
            <inertia ixx="2.61910379223783E-05" ixy="-2.43616858946494E-07" ixz="-6.37789906117123E-09"
                     iyy="2.8270243746167E-06" iyz="-5.37200748039765E-07" izz="2.83695868220296E-05"/>
        </inertial>
        <visual>
            <origin rpy="0 0 0" xyz="0 0 0"/>
            <geometry>
                <mesh filename="meshes/gripper/visual/robotiq_arg2f_85_inner_knuckle.obj"/>
            </geometry>
            <material name="">
                <color rgba="0.1 0.1 0.1 1"/>
            </material>
        </visual>
        <collision>
            <origin rpy="0 0 0" xyz="0 0 0"/>
            <geometry>
                <mesh filename="meshes/gripper/collision/robotiq_arg2f_85_inner_knuckle.obj"/>
            </geometry>
        </collision>
    </link>

    <joint name="omni_chassis_joint" type="fixed">
        <parent link="base_link"/>
        <child link="omni_chassis_base_link"/>
        <axis xyz="1. 0. 0."/>
        <origin xyz="0.0 0.0 0.0" rpy="0.0 0.0 0.0"/>
    </joint>
    <joint name="omni_chassis_leg_mount_joint" type="fixed">
        <parent link="omni_chassis_base_link"/>
        <child link="omni_chassis_leg_mount_link"/>
        <axis xyz="1. 0. 0."/>
        <origin xyz="0.134 0.0 0.13" rpy="0.0 0.0 0.0"/>
    </joint>
    <joint name="leg_joint" type="fixed">
        <parent link="omni_chassis_leg_mount_link"/>
        <child link="leg_base_link"/>
        <axis xyz="1. 0. 0."/>
        <origin xyz="0.0 0.0 0.0" rpy="0.0 0.0 0.0"/>
    </joint>
    <joint name="leg_joint1" type="fixed">
        <limit effort="169.0" velocity="1.0" lower="0.0" upper="0.994837674"/>
        <parent link="leg_base_link"/>
        <child link="leg_link1"/>
        <axis xyz="0. 0. 1."/>
        <origin xyz="0.0 0.0 0.0" rpy="1.5707963267948968 -0.6850196325897934 -3.141592653589793"/>
    </joint>
    <joint name="leg_joint2" type="fixed">
        <limit effort="169.0" velocity="1.0" lower="0.0" upper="3.05"/>
        <parent link="leg_link1"/>
        <child link="leg_link2"/>
        <axis xyz="0. 0. 1."/>
        <origin xyz="0.45 0.0 0.0" rpy="-3.141592653589793 1.1414186833099885e-16 1.556573021"/>
    </joint>
    <joint name="leg_joint3" type="fixed">
        <limit effort="84.0" velocity="1.0" lower="0.0" upper="2.35619449"/>
        <parent link="leg_link2"/>
        <child link="leg_link3"/>
        <axis xyz="0. 0. 1."/>
        <origin xyz="0.39 0.0 0.0" rpy="-3.141592653589793 9.200531434171862e-17 2.2915926535897935"/>
    </joint>
    <joint name="leg_joint4" type="fixed">
        <limit effort="30.0" velocity="1.0" lower="-1.570796327" upper="1.570796327"/>
        <parent link="leg_link3"/>
        <child link="leg_link4"/>
        <axis xyz="0. 0. 1."/>
        <origin xyz="0.0 0.0 0.0" rpy="1.5707963267948966 -0.0 -3.141592653589793"/>
    </joint>
    <joint name="leg_end_effector_mount_joint" type="fixed">
        <parent link="leg_link4"/>
        <child link="leg_end_effector_mount_link"/>
        <axis xyz="1. 0. 0."/>
        <origin xyz="0.0 0.0 0.0" rpy="0.0 0.0 0.0"/>
    </joint>
    <joint name="torso_joint" type="fixed">
        <parent link="leg_end_effector_mount_link"/>
        <child link="torso_base_link"/>
        <axis xyz="1. 0. 0."/>
        <origin xyz="0.0 0.0 0.0" rpy="0.0 0.0 0.0"/>
    </joint>
    <joint name="torso_head_mount_joint" type="fixed">
        <parent link="torso_base_link"/>
        <child link="torso_head_mount_link"/>
        <axis xyz="1. 0. 0."/>
        <origin xyz="-0.0081669 5e-05 0.58394" rpy="0.0 0.0 0.0"/>
    </joint>
    <joint name="torso_right_arm_mount_joint" type="fixed">
        <parent link="torso_base_link"/>
        <child link="torso_right_arm_mount_link"/>
        <axis xyz="1. 0. 0."/>
        <origin xyz="0.0 -0.206 0.39599" rpy="-1.5707963267948966 0.0 3.141592653589793"/>
    </joint>
    <joint name="torso_left_arm_mount_joint" type="fixed">
        <parent link="torso_base_link"/>
        <child link="torso_left_arm_mount_link"/>
        <axis xyz="1. 0. 0."/>
        <origin xyz="0.0 0.206 0.39599" rpy="1.5707963267948966 0.0 3.141592653589793"/>
    </joint>
    <joint name="head_joint" type="fixed">
        <parent link="torso_head_mount_link"/>
        <child link="head_base_link"/>
        <axis xyz="1. 0. 0."/>
        <origin xyz="0.0 0.0 0.0" rpy="0.0 0.0 0.0"/>
    </joint>
    <joint name="head_joint1" type="fixed">
        <limit effort="4.0" velocity="1.5" lower="-1.570796327" upper="1.570796327"/>
        <parent link="head_base_link"/>
        <child link="head_link1"/>
        <axis xyz="0. 0. 1."/>
        <origin xyz="0.0 0.0 0.0" rpy="0.0 0.0 0.0"/>
    </joint>
    <joint name="head_joint2" type="fixed">
        <limit effort="4.0" velocity="1.5" lower="-0.366519143" upper="0.366519143"/>
        <parent link="head_link1"/>
        <child link="head_link2"/>
        <axis xyz="0. 0. 1."/>
        <origin xyz="0.0 0.0 0.0" rpy="-1.5707963267948966 0.0 0.0"/>
    </joint>
    <joint name="head_end_effector_mount_joint" type="fixed">
        <parent link="head_link2"/>
        <child link="head_end_effector_mount_link"/>
        <axis xyz="1. 0. 0."/>
        <origin xyz="0.0 0.0 0.0" rpy="0.0 0.0 0.0"/>
    </joint>

    <!--  Right Joints  -->
    <joint name="right_arm_joint" type="fixed">
        <parent link="torso_right_arm_mount_link"/>
        <child link="right_arm_base_link"/>
        <axis xyz="1. 0. 0."/>
        <origin xyz="0.0 0.0 0.0" rpy="0.0 0.0 0.0"/>
    </joint>
    <joint name="right_arm_joint1" type="fixed">
        <dynamics damping="0.0" friction="0.0"/>
        <limit effort="60.0" velocity="1.5" lower="-3.05" upper="3.05"/>
        <parent link="right_arm_base_link"/>
        <child link="right_arm_link1"/>
        <axis xyz="0. 0. 1."/>
        <origin xyz="0.0 0.0 0.0" rpy="0.0 -0.0 0.6499999999999999"/>
    </joint>
    <joint name="right_arm_joint2" type="fixed">
        <dynamics damping="0.0" friction="0.0"/>
        <limit effort="60.0" velocity="1.5" lower="-1.5707963267948966" upper="1.7"/>
        <parent link="right_arm_link1"/>
        <child link="right_arm_link2"/>
        <axis xyz="0. 0. 1."/>
        <origin xyz="0.0 0.0 0.0" rpy="-1.5707963267948963 -1.26 3.141592653589793"/>
    </joint>
    <joint name="right_arm_joint3" type="fixed">
        <dynamics damping="0.0" friction="0.0"/>
        <limit effort="30.0" velocity="1.5" lower="-2.9" upper="2.9"/>
        <parent link="right_arm_link2"/>
        <child link="right_arm_link3"/>
        <axis xyz="0. 0. 1."/>
        <origin xyz="0.0 -0.35 0.0" rpy="-1.5707963267948966 -1.4707963267948971 3.141592653589793"/>
    </joint>
    <joint name="right_arm_joint4" type="fixed">
        <dynamics damping="0.0" friction="0.0"/>
        <limit effort="30.0" velocity="1.5" lower="-2.1" upper="2.1"/>
        <parent link="right_arm_link3"/>
        <child link="right_arm_link4"/>
        <axis xyz="0. 0. 1."/>
        <origin xyz="0.0 0.0 0.0" rpy="1.5707963267948957 1.5058926535897934 -1.064573695336043e-15"/>
    </joint>
    <joint name="right_arm_joint5" type="fixed">
        <dynamics damping="0.0" friction="0.0"/>
        <limit effort="10.0" velocity="1.5" lower="-2.9" upper="2.9"/>
        <parent link="right_arm_link4"/>
        <child link="right_arm_link5"/>
        <axis xyz="0. 0. 1."/>
        <origin xyz="0.0 -0.36 0.0" rpy="-1.5707963267948961 1.441592653589793 -3.1415926535897927"/>
    </joint>
    <joint name="right_arm_joint6" type="fixed">
        <dynamics damping="0.0" friction="0.0"/>
        <limit effort="10.0" velocity="1.5" lower="-0.785398163" upper="0.785398163"/>
        <parent link="right_arm_link5"/>
        <child link="right_arm_link6"/>
        <axis xyz="0. 0. 1."/>
        <origin xyz="0.0 0.0 0.0" rpy="1.5707963267948966 1.4597963267948968 -1.8369701987210302e-16"/>
    </joint>
    <joint name="right_arm_joint7" type="fixed">
        <dynamics damping="0.0" friction="0.0"/>
        <limit effort="10.0" velocity="1.5" lower="-1.4" upper="1.4"/>
        <parent link="right_arm_link6"/>
        <child link="right_arm_link7"/>
        <axis xyz="0. 0. 1."/>
        <origin xyz="0.0 0.0 0.0" rpy="-1.5707963267948966 -0.8996 -7.709908062174648e-17"/>
    </joint>

    <!--  Right Tool Joint  -->
    <joint name="right_robotiq_base_joint" type="fixed">
        <parent link="right_arm_link7"/>
        <child link="right_robotiq_arg2f_base_link"/>
        <axis xyz="1 0 0"/>
        <origin rpy="1.5707963267948968 1.5707963267948968 -1.5707963267948968" xyz="-0.1018 0 0"/>
    </joint>
    <joint name="right_robotiq_left_joint_0" type="fixed">
        <origin rpy="0 0 3.141592653589793" xyz="0 -0.0306011 0.054904"/>
        <parent link="right_robotiq_arg2f_base_link"/>
        <child link="right_robotiq_left_outer_knuckle"/>
        <axis xyz="1 0 0"/>
        <limit effort="1000" lower="0" upper="0.8" velocity="2.0"/>
    </joint>
    <joint name="right_robotiq_left_joint_fixed" type="fixed">
        <origin rpy="0 0 0" xyz="0 0.0315 -0.0041"/>
        <parent link="right_robotiq_left_outer_knuckle"/>
        <child link="right_robotiq_left_outer_finger"/>
        <axis xyz="1 0 0"/>
        <limit effort="1000" lower="-1.57" upper="0" velocity="2.0"/>
    </joint>
    <joint name="right_robotiq_left_joint_1" type="fixed">
        <origin rpy="0 0 0" xyz="0 0.0061 0.0471"/>
        <parent link="right_robotiq_left_outer_finger"/>
        <child link="right_robotiq_left_inner_finger"/>
        <axis xyz="-1 0 0"/>
        <limit effort="1000" lower="-0.872664" upper="0.872664" velocity="2.0"/>
    </joint>
    <joint name="right_robotiq_left_joint_2" type="fixed">
        <!-- <origin xyz="0 ${reflect * -0.0127} 0.06142" rpy="${pi / 2 + .725} 0 ${(reflect - 1) * pi / 2}" /> -->
        <origin rpy="0 0 3.141592653589793" xyz="0 -0.0127 0.06142"/>
        <parent link="right_robotiq_arg2f_base_link"/>
        <child link="right_robotiq_left_inner_knuckle"/>
        <axis xyz="1 0 0"/>
        <limit effort="1000" lower="-0.29670597283" upper="0.8" velocity="2.0"/>
    </joint>
    <joint name="right_robotiq_right_joint_0" type="fixed">
        <origin rpy="0 0 0" xyz="0 0.0306011 0.054904"/>
        <parent link="right_robotiq_arg2f_base_link"/>
        <child link="right_robotiq_right_outer_knuckle"/>
        <axis xyz="1 0 0"/>
        <limit effort="1000" lower="0" upper="0.8" velocity="2.0"/>
    </joint>
    <joint name="right_robotiq_right_joint_fixed" type="fixed">
        <origin rpy="0 0 0" xyz="0 0.0315 -0.0041"/>
        <parent link="right_robotiq_right_outer_knuckle"/>
        <child link="right_robotiq_right_outer_finger"/>
        <axis xyz="1 0 0"/>
        <limit effort="1000" lower="-1.57" upper="0" velocity="2.0"/>
    </joint>
    <joint name="right_robotiq_right_joint_1" type="fixed">
        <origin rpy="0 0 0" xyz="0 0.0061 0.0471"/>
        <parent link="right_robotiq_right_outer_finger"/>
        <child link="right_robotiq_right_inner_finger"/>
        <axis xyz="-1 0 0"/>
        <limit effort="1000" lower="-0.872664" upper="0.872664" velocity="2.0"/>
    </joint>
    <joint name="right_robotiq_right_joint_2" type="fixed">
        <!-- <origin xyz="0 ${reflect * -0.0127} 0.06142" rpy="${pi / 2 + .725} 0 ${(reflect - 1) * pi / 2}" /> -->
        <origin rpy="0 0 0.0" xyz="0 0.0127 0.06142"/>
        <parent link="right_robotiq_arg2f_base_link"/>
        <child link="right_robotiq_right_inner_knuckle"/>
        <axis xyz="1 0 0"/>
        <limit effort="1000" lower="-0.29670597283" upper="0.8" velocity="2.0"/>
    </joint>

    <!-- Left Joints -->
    <joint name="left_arm_joint" type="fixed">
        <parent link="torso_left_arm_mount_link"/>
        <child link="left_arm_base_link"/>
        <axis xyz="1. 0. 0."/>
        <origin xyz="0.0 0.0 0.0" rpy="0.0 0.0 0.0"/>
    </joint>
    <joint name="left_arm_joint1" type="revolute">
        <dynamics damping="0.0" friction="0.0"/>
        <limit effort="60.0" velocity="1.5" lower="-3.05" upper="3.05"/>
        <parent link="left_arm_base_link"/>
        <child link="left_arm_link1"/>
        <axis xyz="0. 0. 1."/>
        <origin xyz="0.0 0.0 0.0" rpy="0.0 0.0 0.0"/>
    </joint>
    <joint name="left_arm_joint2" type="revolute">
        <dynamics damping="0.0" friction="0.0"/>
        <limit effort="60.0" velocity="1.5" lower="-1.7" upper="1.57"/>
        <parent link="left_arm_link1"/>
        <child link="left_arm_link2"/>
        <axis xyz="0. 0. 1."/>
        <origin xyz="0.0 0.0 0.0" rpy="1.5707963267948966 0.0 3.141592653589793"/>
    </joint>
    <joint name="left_arm_joint3" type="revolute">
        <dynamics damping="0.0" friction="0.0"/>
        <limit effort="30.0" velocity="1.5" lower="-2.9" upper="2.9"/>
        <parent link="left_arm_link2"/>
        <child link="left_arm_link3"/>
        <axis xyz="0. 0. 1."/>
        <origin xyz="0.0 0.35 0.0" rpy="-1.5707963267948966 -1.5707963267948966 0.0"/>
    </joint>
    <joint name="left_arm_joint4" type="revolute">
        <dynamics damping="0.0" friction="0.0"/>
        <limit effort="30.0" velocity="1.5" lower="-2.1" upper="2.1"/>
        <parent link="left_arm_link3"/>
        <child link="left_arm_link4"/>
        <axis xyz="0. 0. 1."/>
        <origin xyz="0.0 0.0 0.0" rpy="1.5707963267948966 0.0 -3.141592653589793"/>
    </joint>
    <joint name="left_arm_joint5" type="revolute">
        <dynamics damping="0.0" friction="0.0"/>
        <limit effort="10.0" velocity="1.5" lower="-2.9" upper="2.9"/>
        <parent link="left_arm_link4"/>
        <child link="left_arm_link5"/>
        <axis xyz="0. 0. 1."/>
        <origin xyz="0.0 0.36 0.0" rpy="1.5707963267948968 1.2246467991473532e-16 -3.141592653589793"/>
    </joint>
    <joint name="left_arm_joint6" type="revolute">
        <dynamics damping="0.0" friction="0.0"/>
        <limit effort="10.0" velocity="1.5" lower="-0.7" upper="0.7"/>
        <parent link="left_arm_link5"/>
        <child link="left_arm_link6"/>
        <axis xyz="0. 0. 1."/>
        <origin xyz="0.0 0.0 0.0" rpy="1.5707963267948966 1.5707963267948966 0.0"/>
    </joint>
    <joint name="left_arm_joint7" type="revolute">
        <dynamics damping="0.0" friction="0.0"/>
        <limit effort="10.0" velocity="1.5" lower="-1.4" upper="1.4"/>
        <parent link="left_arm_link6"/>
        <child link="left_arm_link7"/>
        <axis xyz="0. 0. 1."/>
        <origin xyz="0.0 0.0 0.0" rpy="1.5707963267948966 0.0 0.0"/>
    </joint>
    <joint name="left_arm_end_effector_mount_joint" type="fixed">
        <parent link="left_arm_link7"/>
        <child link="left_arm_end_effector_mount_link"/>
        <axis xyz="1. 0. 0."/>
        <origin xyz="-0.083 0.0 0.0" rpy="-1.5707963267948966 0.0 3.141592653589793"/>
    </joint>
    <joint name="left_gripper_tcp_joint" type="fixed" dont_collapse="true">
        <parent link="robotiq_arg2f_base_link"/>
        <child link="left_gripper_tcp_link"/>
        <axis xyz="1. 0. 0."/>
        <origin xyz="0 0 0.181904" rpy="-3.141592653589793 -1.5707963267948966 0"/>
    </joint>

    <!-- Left Tool Joint -->
    <joint name="left_robotiq_base_joint" type="fixed">
        <parent link="left_arm_link7"/>
        <child link="robotiq_arg2f_base_link"/>
        <axis xyz="1 0 0"/>
        <origin rpy="1.5707963267948968 1.5707963267948968 -1.5707963267948968" xyz="-0.1018 0 0"/>
    </joint>
    <joint name="left_robotiq_left_joint_0" type="revolute">
        <origin rpy="0 0 3.141592653589793" xyz="0 -0.0306011 0.054904"/>
        <parent link="robotiq_arg2f_base_link"/>
        <child link="left_outer_knuckle"/>
        <axis xyz="1 0 0"/>
        <limit effort="1000" lower="0" upper="0.8" velocity="2.0"/>
    </joint>
    <joint name="left_robotiq_left_joint_fixed" type="fixed">
        <origin rpy="0 0 0" xyz="0 0.0315 -0.0041"/>
        <parent link="left_outer_knuckle"/>
        <child link="left_outer_finger"/>
        <axis xyz="1 0 0"/>
        <limit effort="1000" lower="-1.57" upper="0" velocity="2.0"/>
    </joint>
    <joint name="left_robotiq_left_joint_1" type="revolute">
        <origin rpy="0 0 0" xyz="0 0.0061 0.0471"/>
        <parent link="left_outer_finger"/>
        <child link="left_inner_finger"/>
        <axis xyz="-1 0 0"/>
        <limit effort="1000" lower="-0.872664" upper="0.872664" velocity="2.0"/>
    </joint>
    <joint name="left_robotiq_left_joint_2" type="revolute">
        <!-- <origin xyz="0 ${reflect * -0.0127} 0.06142" rpy="${pi / 2 + .725} 0 ${(reflect - 1) * pi / 2}" /> -->
        <origin rpy="0 0 3.141592653589793" xyz="0 -0.0127 0.06142"/>
        <parent link="robotiq_arg2f_base_link"/>
        <child link="left_inner_knuckle"/>
        <axis xyz="1 0 0"/>
        <limit effort="1000" lower="-0.29670597283" upper="0.8" velocity="2.0"/>
    </joint>
    <joint name="left_robotiq_right_joint_0" type="revolute">
        <origin rpy="0 0 0" xyz="0 0.0306011 0.054904"/>
        <parent link="robotiq_arg2f_base_link"/>
        <child link="right_outer_knuckle"/>
        <axis xyz="1 0 0"/>
        <limit effort="1000" lower="0" upper="0.8" velocity="2.0"/>
    </joint>
    <joint name="left_robotiq_right_joint_fixed" type="fixed">
        <origin rpy="0 0 0" xyz="0 0.0315 -0.0041"/>
        <parent link="right_outer_knuckle"/>
        <child link="right_outer_finger"/>
        <axis xyz="1 0 0"/>
        <limit effort="1000" lower="-1.57" upper="0" velocity="2.0"/>
    </joint>
    <joint name="left_robotiq_right_joint_1" type="revolute">
        <origin rpy="0 0 0" xyz="0 0.0061 0.0471"/>
        <parent link="right_outer_finger"/>
        <child link="right_inner_finger"/>
        <axis xyz="-1 0 0"/>
        <limit effort="1000" lower="-0.872664" upper="0.872664" velocity="2.0"/>
    </joint>
    <joint name="left_robotiq_right_joint_2" type="revolute">
        <!-- <origin xyz="0 ${reflect * -0.0127} 0.06142" rpy="${pi / 2 + .725} 0 ${(reflect - 1) * pi / 2}" /> -->
        <origin rpy="0 0 0.0" xyz="0 0.0127 0.06142"/>
        <parent link="robotiq_arg2f_base_link"/>
        <child link="right_inner_knuckle"/>
        <axis xyz="1 0 0"/>
        <limit effort="1000" lower="-0.29670597283" upper="0.8" velocity="2.0"/>
    </joint>

</robot>
